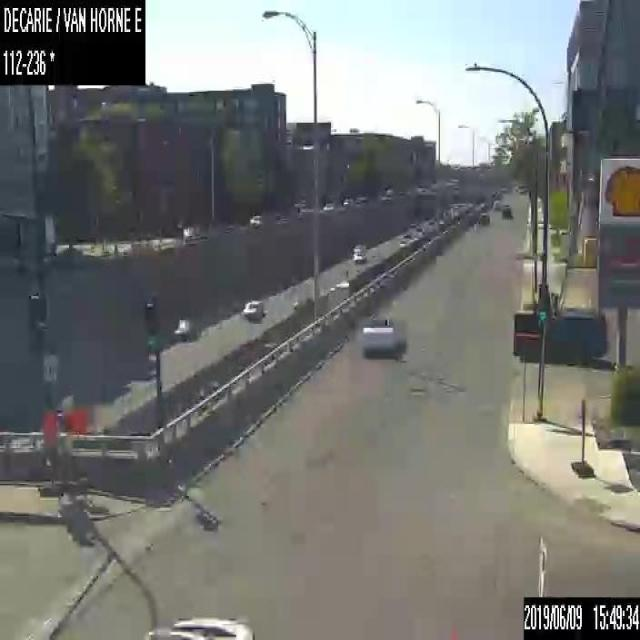construction: (64, 404, 87, 495), (39, 409, 60, 497), (571, 402, 593, 477)
vehicle: (144, 613, 254, 639), (361, 315, 407, 357), (171, 316, 198, 342), (240, 299, 263, 320), (248, 212, 264, 224), (476, 211, 489, 224), (353, 250, 366, 262), (501, 208, 512, 218), (322, 203, 333, 212), (492, 200, 501, 210), (398, 239, 407, 249), (352, 244, 362, 252), (342, 198, 352, 205)
